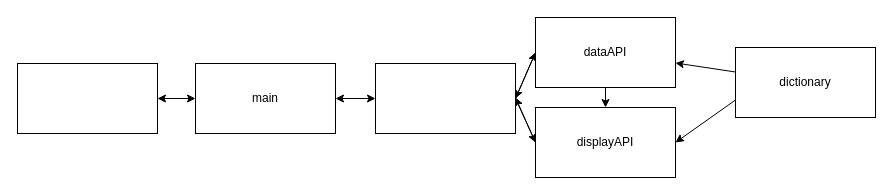
Some shapes in this 893 by 195 pixel diagram are drawn without their labels. The centre of each missing label's shape, as x and y in pixels:
"components" belongs at point (445, 98).
"DOM" belongs at point (87, 98).
